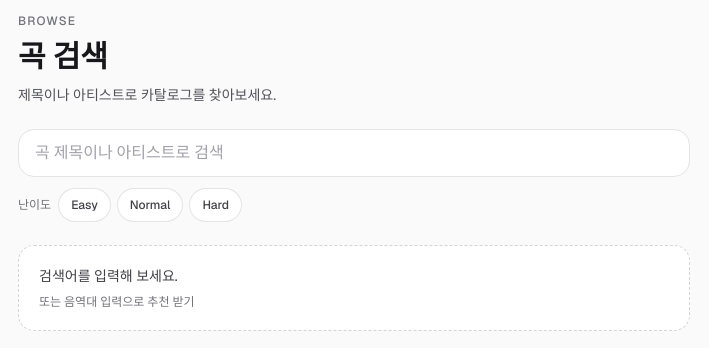
Test case: SongSearchPage › 응답이 빈 배열이면 '검색 결과 없음' fallback을 노출한다
The width and height of the screenshot is (709, 348).
Step 1. Type "zzzzzzz" into the search field with placeholder "곡 제목이나 아티스트로 검색" → (354, 153), box [18, 129, 690, 177]
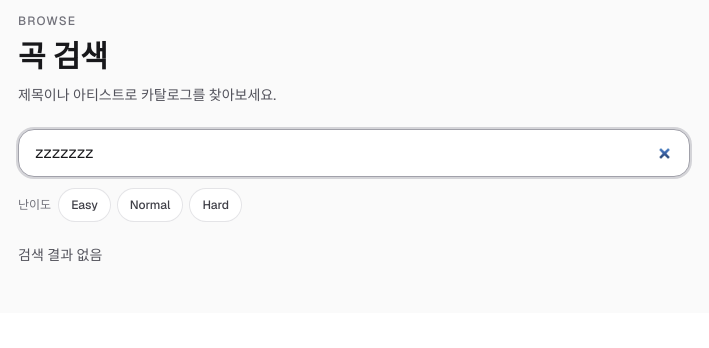
Expected: the text "검색 결과 없음" is shown, [18, 246, 102, 264]
